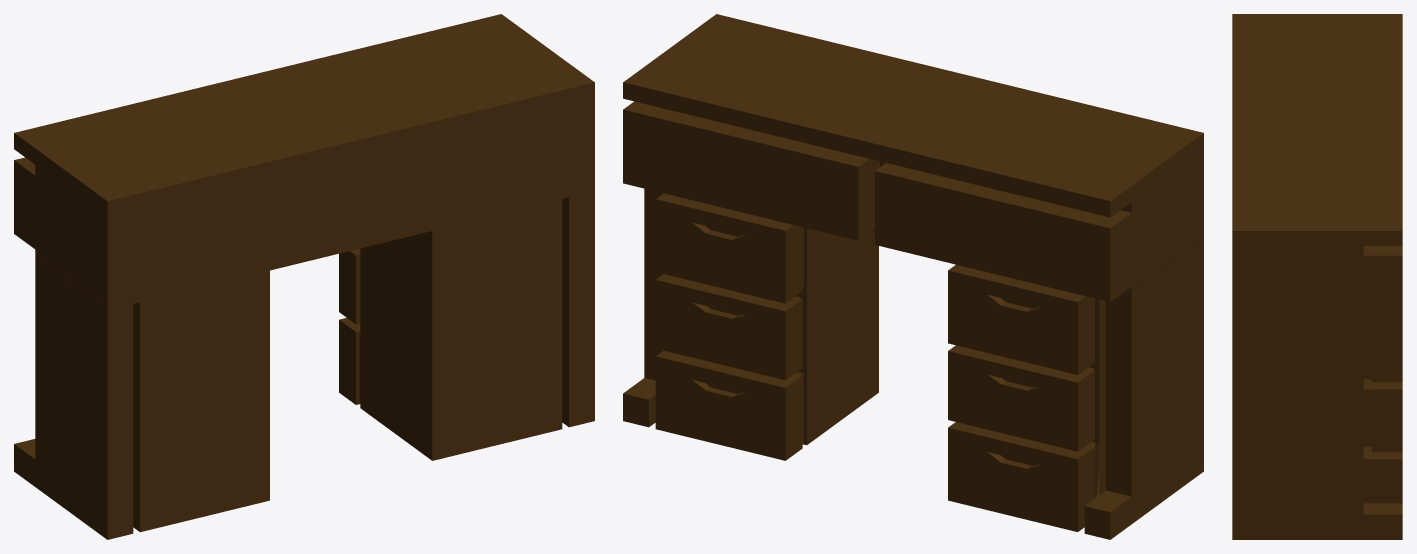
Rendered from CdidBoxDesk.fbx.
3 views of the same model, side by side, from view 1: azimuth 30°, elevation 25°; view 2: azimuth 150°, elevation 25°; view 3: azimuth 270°, elevation 25° (orthographic). The views are drawn at different scales.
Parts seen in each view (by area): view 1: pasted__pCube25; view 2: pasted__pCube25; view 3: pasted__pCube25.
Part boxes in pixels (x1,y1,x2,y2): pasted__pCube25: [14, 14, 594, 539]; pasted__pCube25: [623, 14, 1203, 539]; pasted__pCube25: [1232, 14, 1402, 539].
Bounding box in the file's own units: 3 × 1.99 × 0.9965.
1 material, 1 textured.
